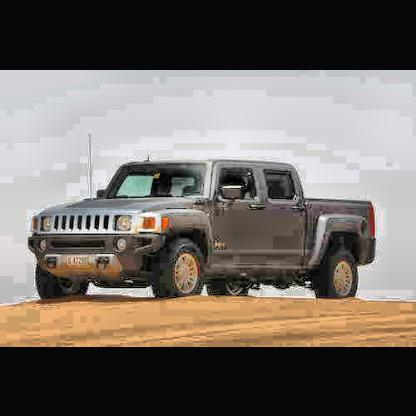HUMMER H3T Crew Cab 2010: (11, 141, 398, 323)
